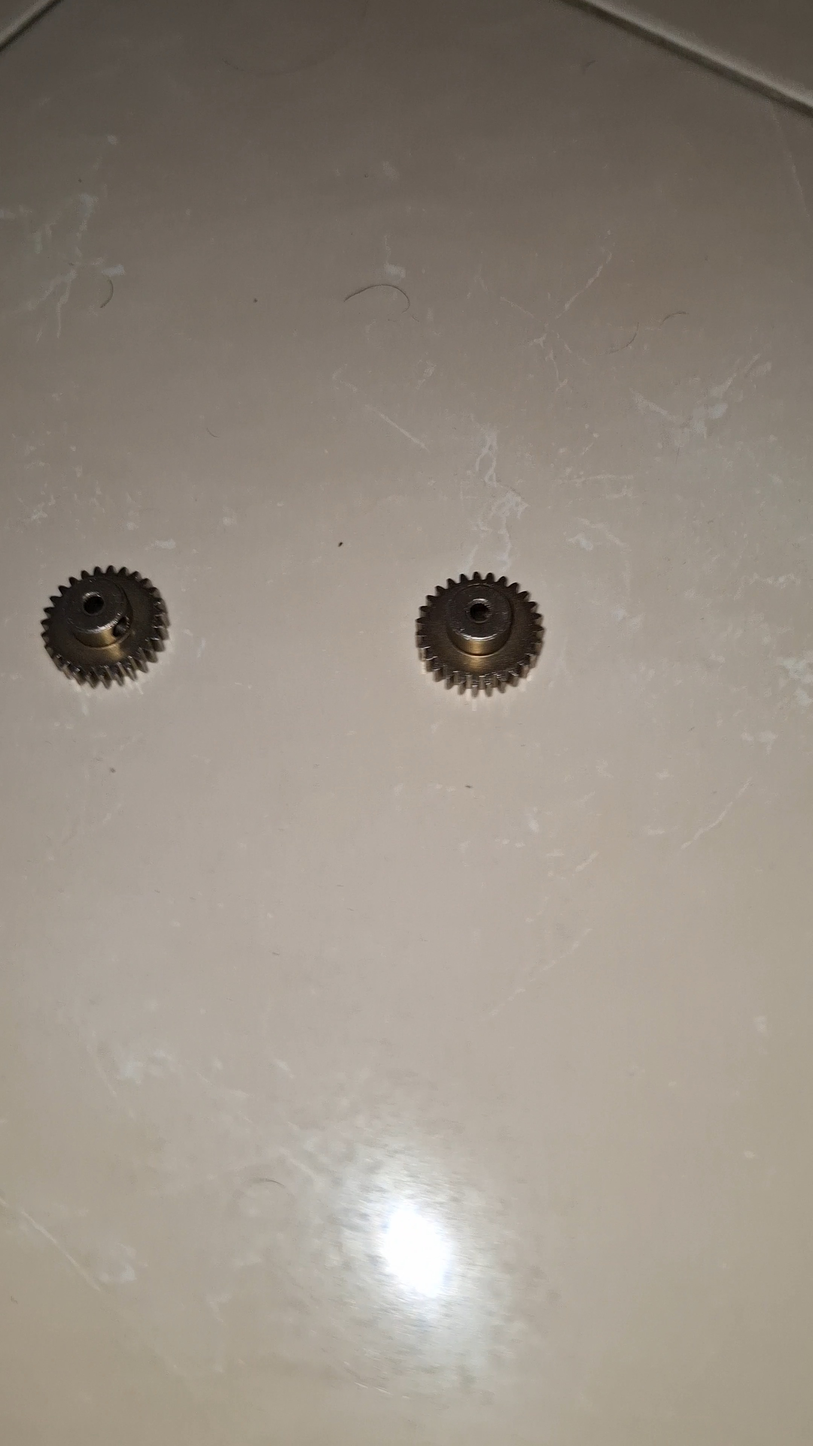spur gear: (416, 572, 542, 693), (42, 566, 168, 686)
